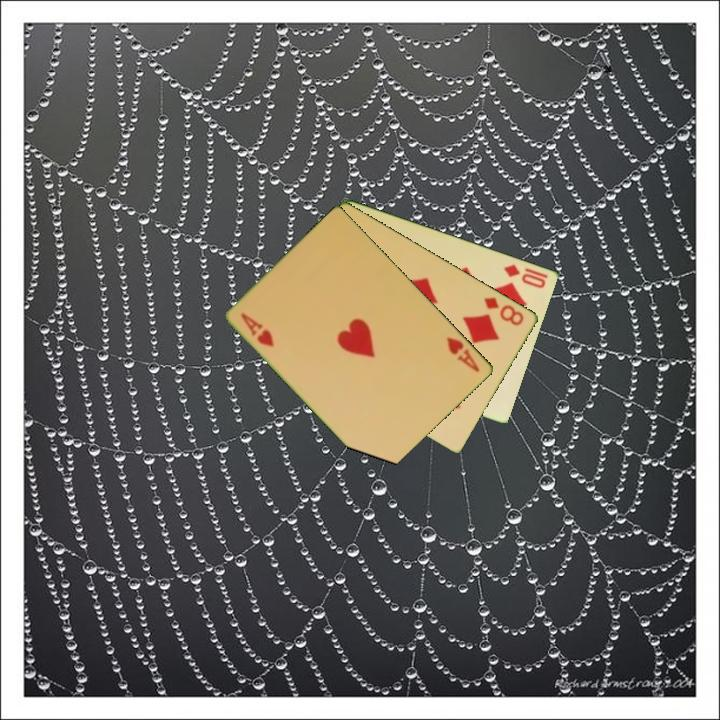10d: (500, 260, 551, 291)
8d: (481, 293, 527, 329)
Ah: (237, 309, 278, 350), (443, 333, 483, 375)
